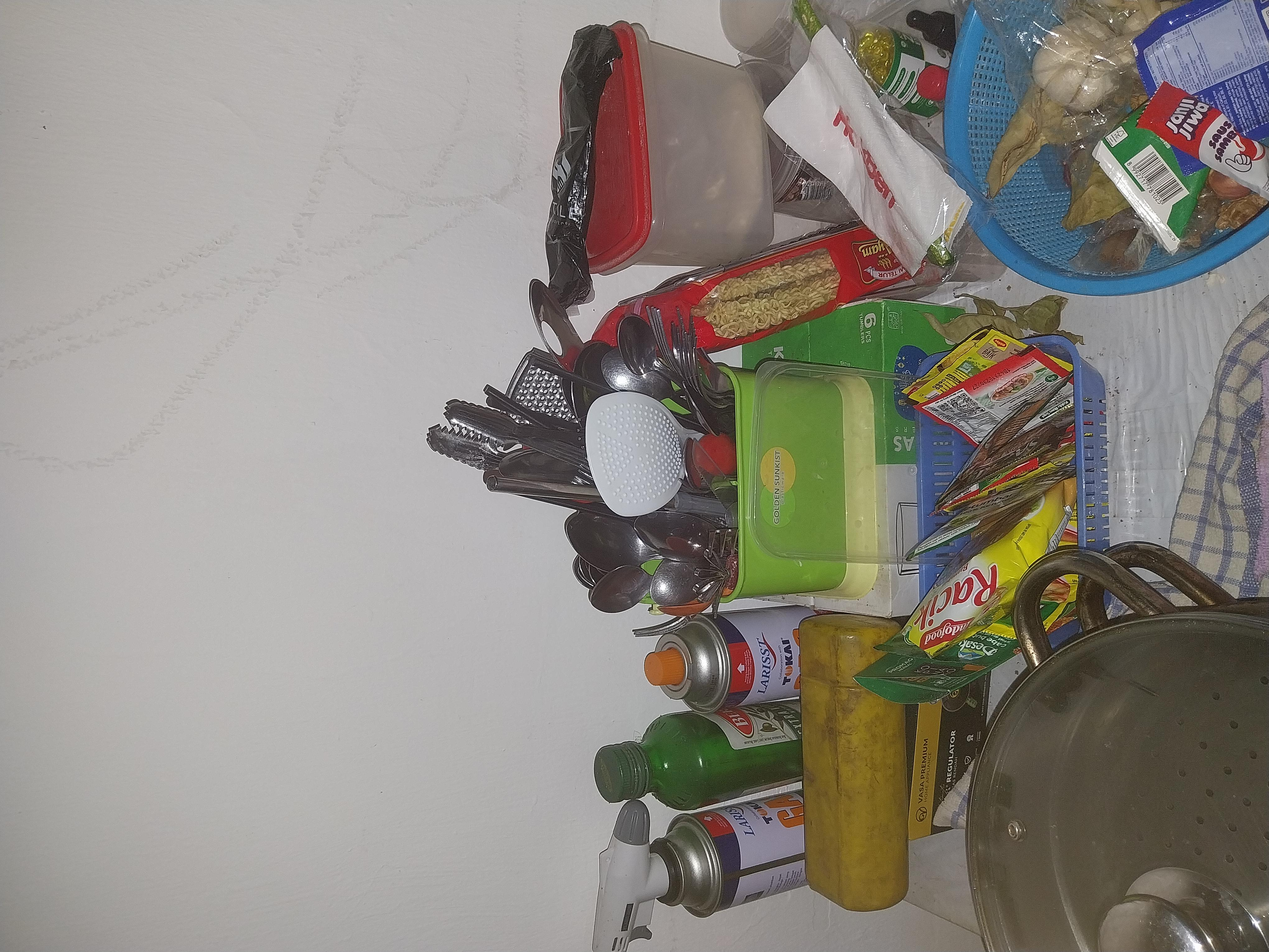bottle: (178, 443, 334, 606), (1106, 581, 1269, 722)
spoon: (479, 416, 613, 498), (769, 383, 905, 445), (722, 444, 857, 505), (507, 469, 608, 538), (438, 437, 528, 495), (621, 373, 675, 443), (456, 485, 527, 527), (765, 462, 851, 495), (756, 428, 823, 462), (705, 417, 764, 451), (481, 423, 535, 454), (821, 410, 830, 414)
wall: (0, 0, 1269, 550), (0, 487, 82, 734), (826, 423, 942, 501), (159, 482, 200, 504)
